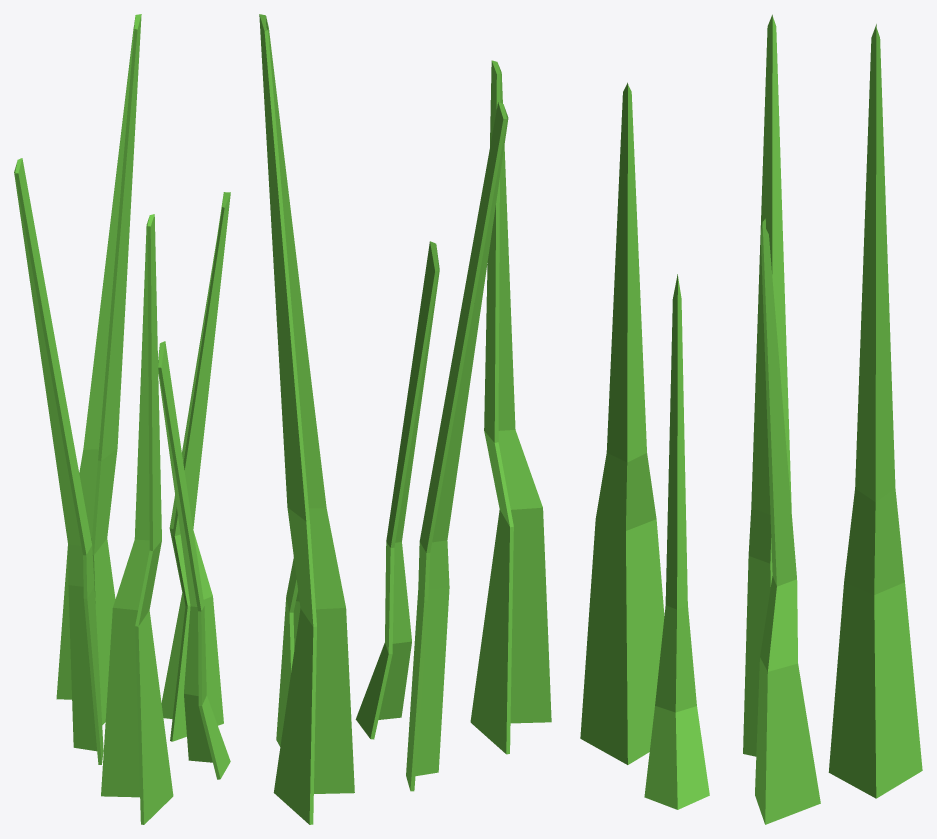
The model's file is Grass_Single.fbx.
3 views of the same model, side by side, from view 1: azimuth 30°, elevation 25°; view 2: azimuth 150°, elevation 25°; view 3: azimuth 270°, elevation 25° (orthographic). The views are drawn at different scales.
Parts seen in each view (by area): view 1: Grass.001; view 2: Grass.001; view 3: Grass.001.
Boxes of the visible parts, box(x1,y1,x2,y2) form: Grass.001: box(14, 14, 230, 824); Grass.001: box(259, 14, 551, 824); Grass.001: box(580, 14, 922, 824).
Size of the model in its own units: 277 by 855 by 338.
